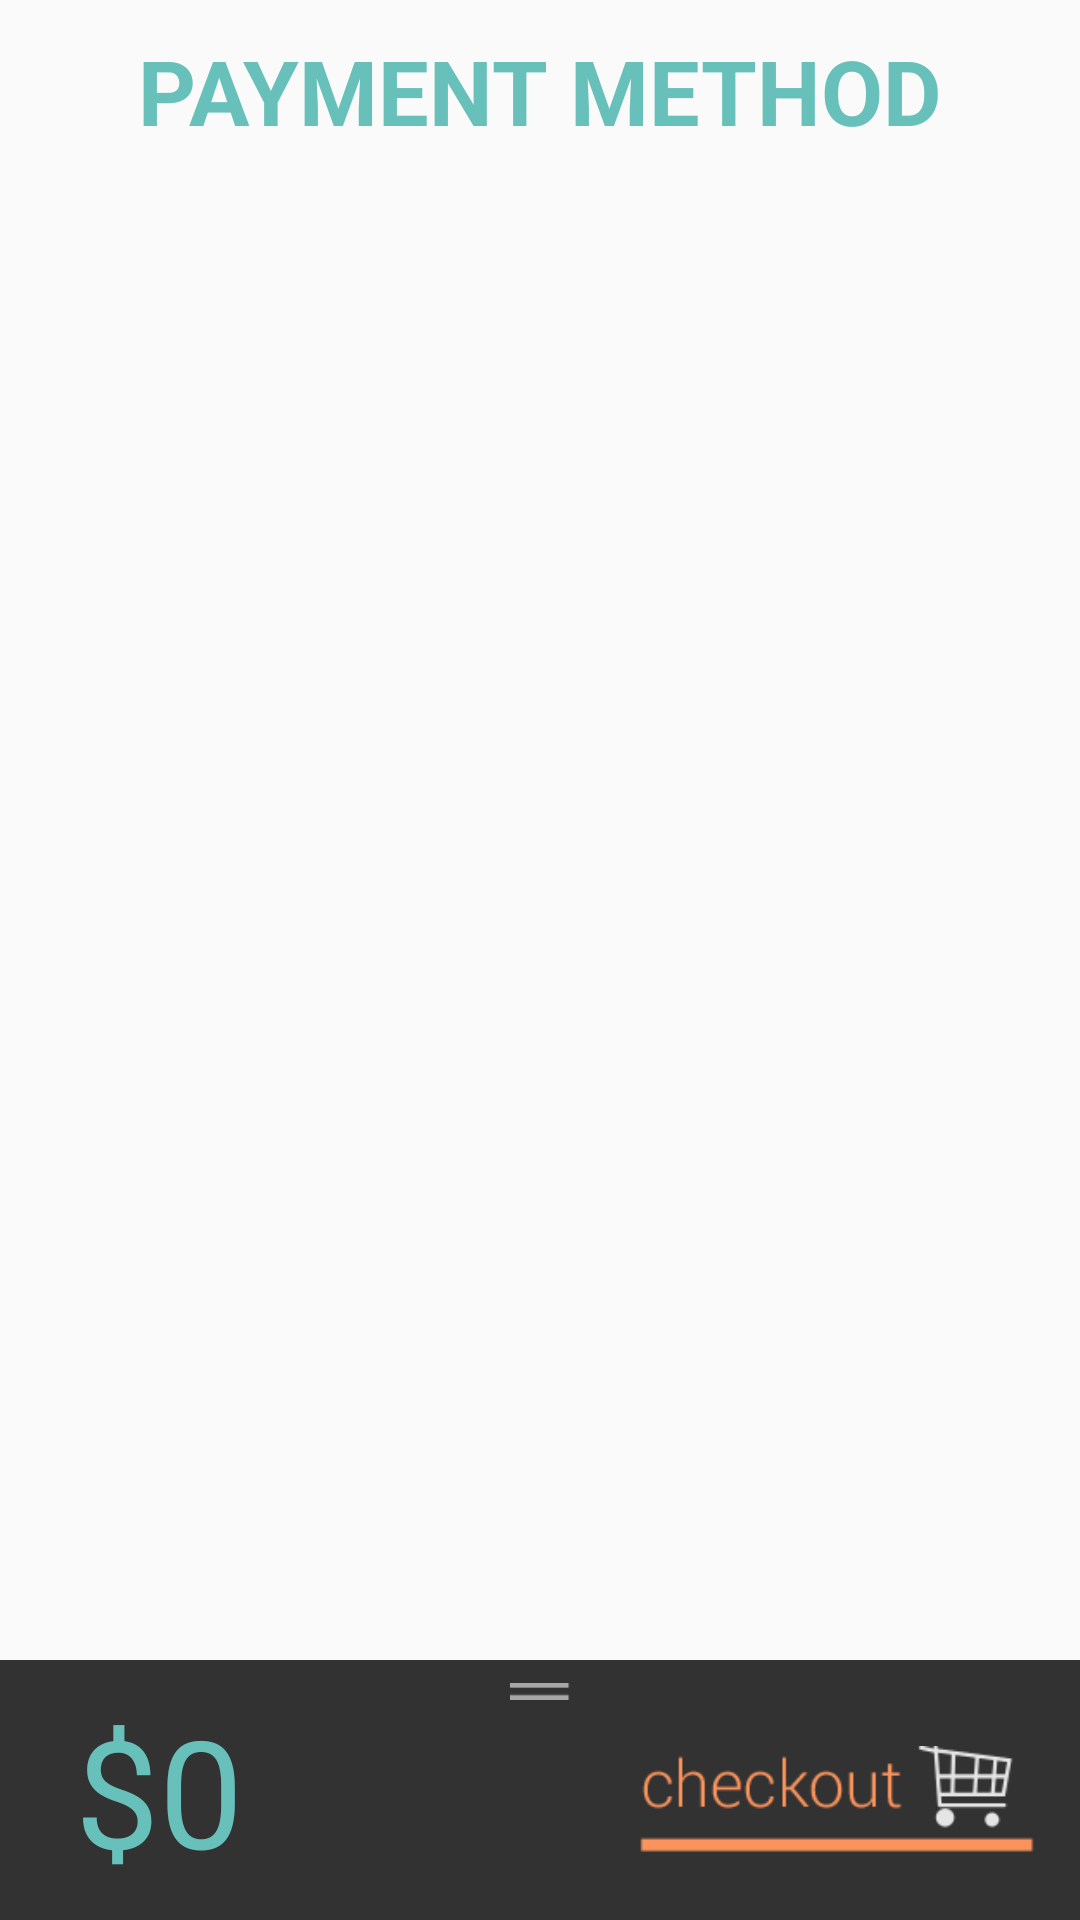

Locate icon controls on the screen. Image size 1080 x 1920, boxes as bbox=[x1, y1, x2, y2].
slidebar: bbox=[510, 1683, 569, 1700]
